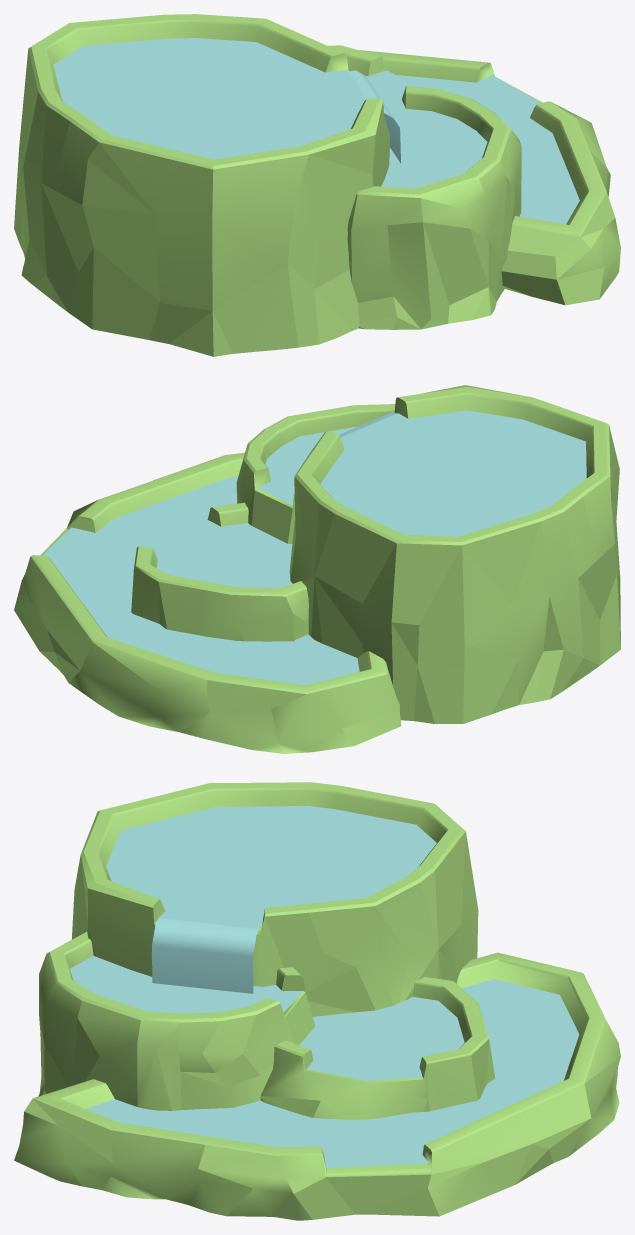
The model's file is Waterfall.fbx.
3 views of the same model, one above another, from view 1: azimuth 30°, elevation 25°; view 2: azimuth 150°, elevation 25°; view 3: azimuth 270°, elevation 25° (orthographic). The views are drawn at different scales.
Parts seen in each view (by area): view 1: Fourth, FourthWater, Third, First, FirstWater, ThirdWater, Second, pPlane1, SecondWater; view 2: Fourth, First, FourthWater, FirstWater, Second, SecondWater, Third, ThirdWater; view 3: First, Fourth, FourthWater, Third, FirstWater, Second, SecondWater, pPlane1, ThirdWater.
Boxes of the visible parts, x1,y1,x2,y2 form: Fourth: (14, 14, 389, 356); FourthWater: (53, 38, 366, 159); Third: (347, 85, 521, 329); First: (359, 50, 620, 305); FirstWater: (396, 75, 579, 224); ThirdWater: (381, 100, 487, 188); Second: (328, 45, 385, 76); pPlane1: (349, 70, 400, 163); SecondWater: (365, 70, 416, 101); Fourth: (289, 385, 620, 723); First: (14, 452, 401, 753); FourthWater: (320, 410, 586, 536); FirstWater: (43, 476, 359, 685); Second: (131, 502, 308, 641); SecondWater: (146, 520, 292, 588); Third: (236, 404, 395, 543); ThirdWater: (257, 426, 357, 505); First: (14, 952, 620, 1220); Fourth: (71, 782, 478, 1016); FourthWater: (106, 806, 436, 928); Third: (38, 932, 315, 1110); FirstWater: (86, 979, 579, 1167); Second: (260, 977, 495, 1119); SecondWater: (299, 996, 464, 1080); pPlane1: (152, 918, 259, 993); ThirdWater: (70, 956, 302, 1013).
Size of the model in its own units: 17257 by 5627 by 16804.
